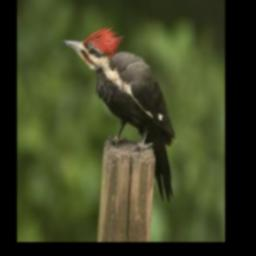Woodpecker: (59, 20, 184, 205)
